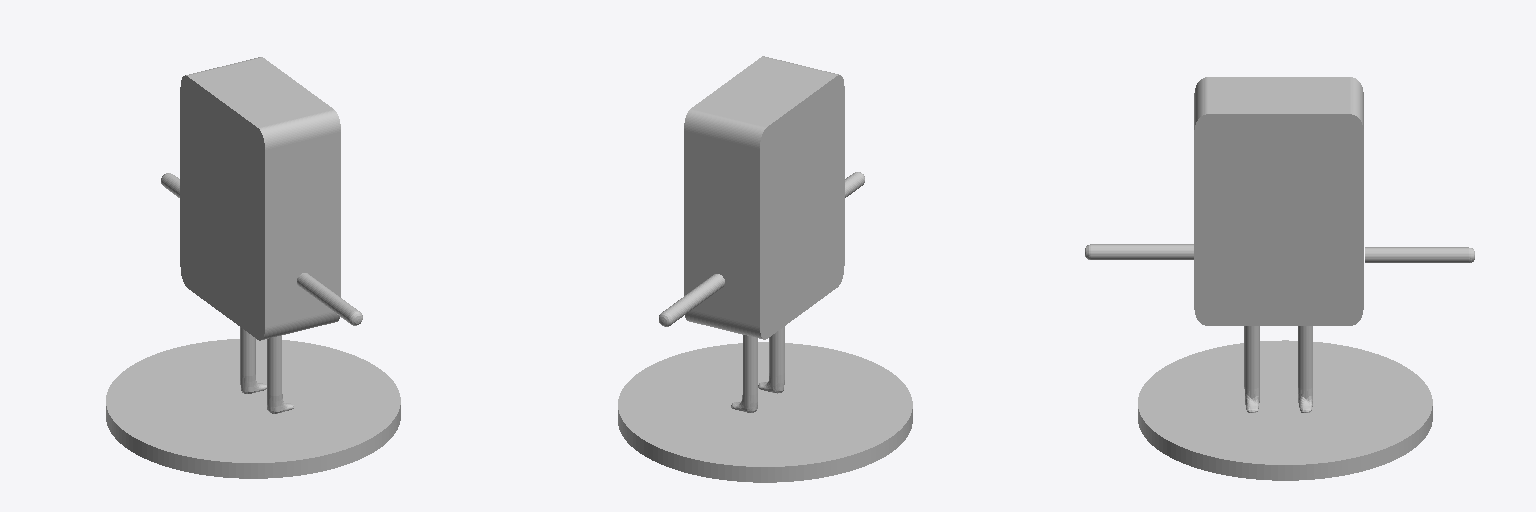
The model's file is bmo.obj.
The picture shows the model from 3 angles: view 1: azimuth 30°, elevation 25°; view 2: azimuth 150°, elevation 25°; view 3: azimuth 270°, elevation 25°; orthographic projection.
Visible parts, largest first — view 1: Cube_Cube.001, Cylinder; view 2: Cube_Cube.001, Cylinder; view 3: Cube_Cube.001, Cylinder.
Part boxes in pixels (x1,y1,x2,y2): Cube_Cube.001: (161,57,362,413); Cylinder: (106,339,400,478); Cube_Cube.001: (659,56,864,412); Cylinder: (618,342,912,482); Cube_Cube.001: (1085,77,1474,412); Cylinder: (1138,340,1432,480).
Bounding box in the file's own units: 2 × 2.43 × 2.65.